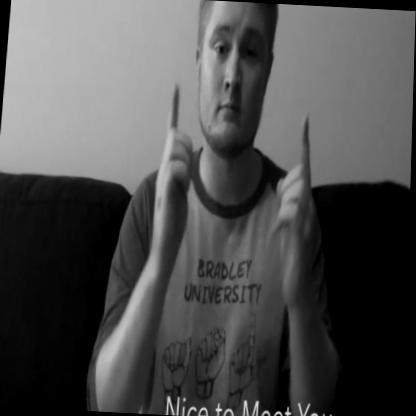NiceToMeetYou: (133, 74, 335, 318)
